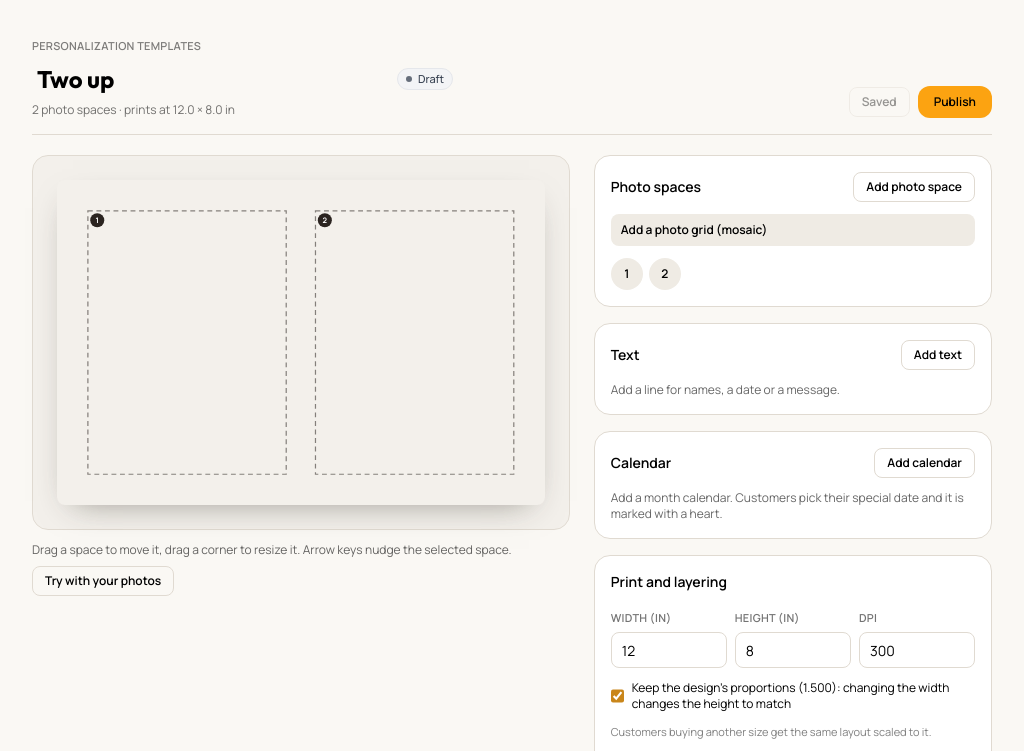
Test: admin collage templates pages › loads a draft, edits it and saves it
Expected: the field showing "Two up" is shown, 32,62 -> 385,96
Expected: the text "2 photo spaces · prints at 12.0 × 8.0 in" is shown, 32,101 -> 235,118
Click the button "Add photo space".
click(914, 187)  # box 853,172 -> 975,202
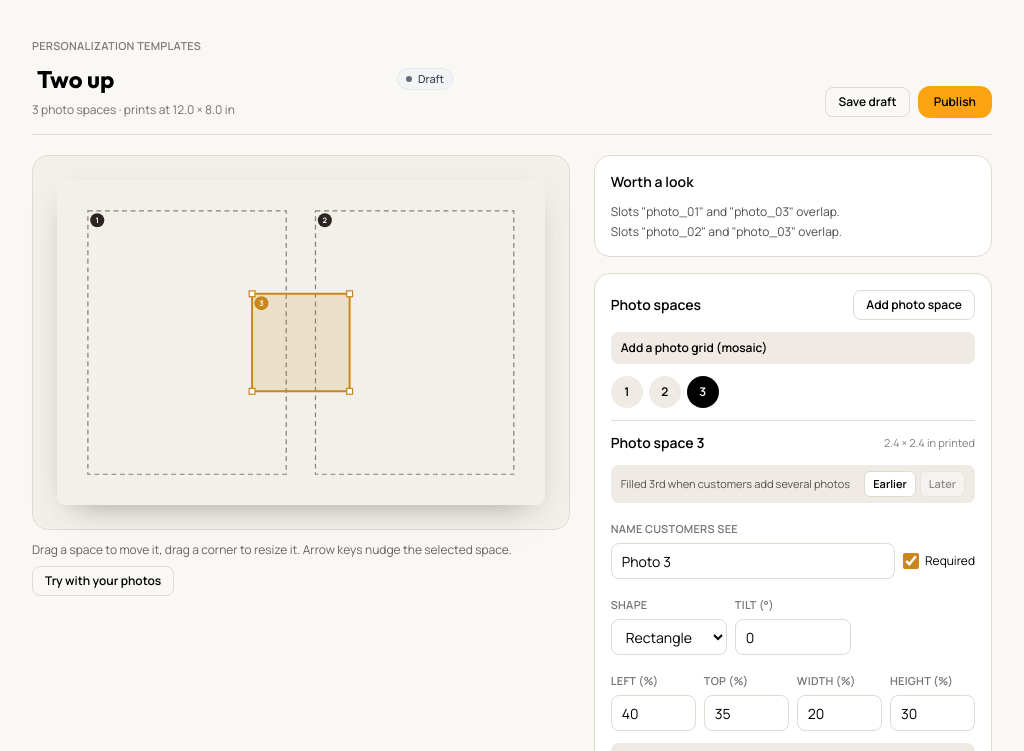
Expected: the text "3 photo spaces · prints at 12.0 × 8.0 in" is shown, 32,101 -> 235,118
Expected: the heading "Photo space 3" is shown, 611,433 -> 704,453
Click the button "Save draft".
click(868, 102)  # box 825,87 -> 910,117
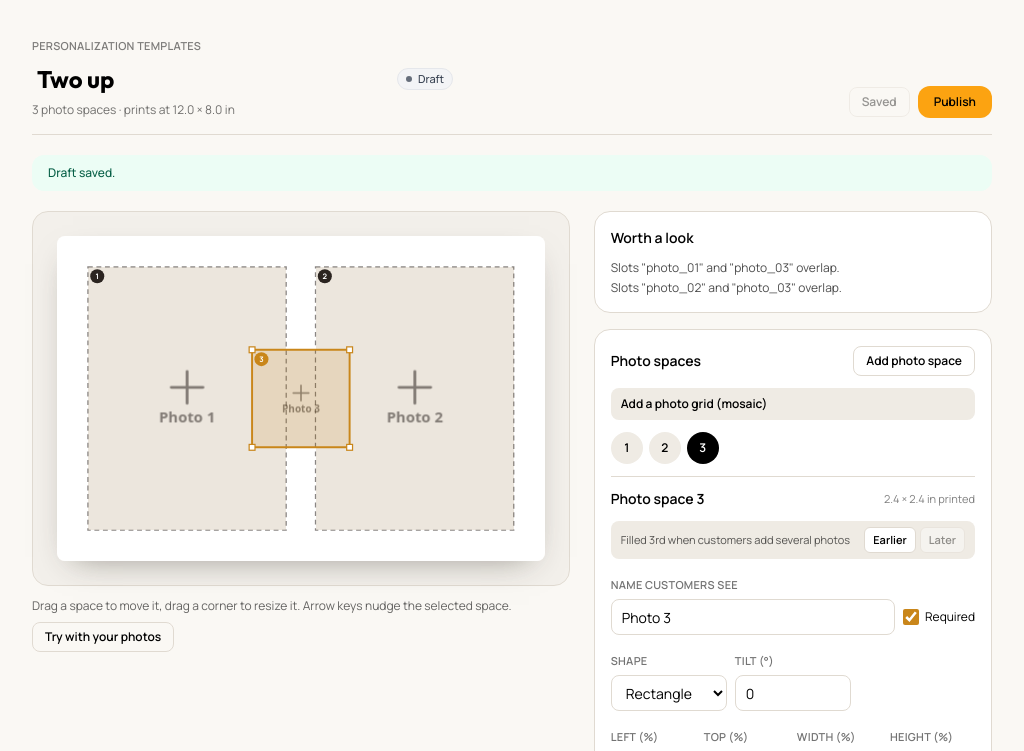
Expected: the text "Draft saved." is shown, 32,155 -> 992,191
